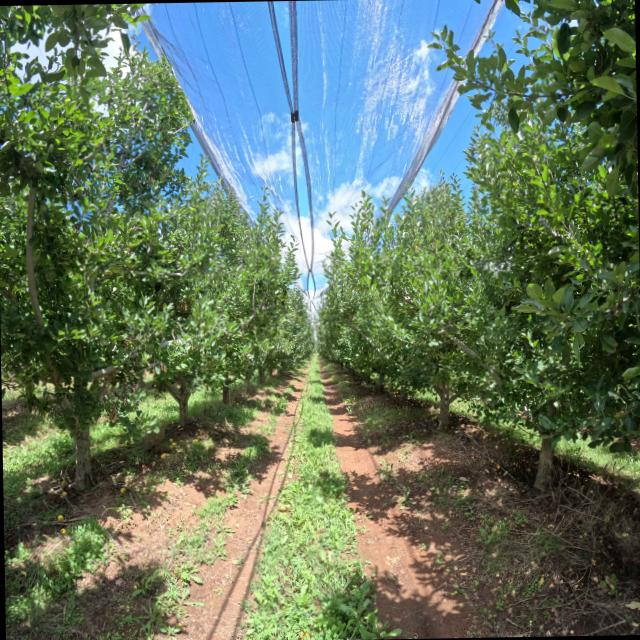-FireBlight-: (142, 360, 166, 379), (108, 403, 117, 424), (122, 372, 127, 406), (130, 379, 141, 394), (178, 300, 188, 312), (123, 338, 130, 351)
